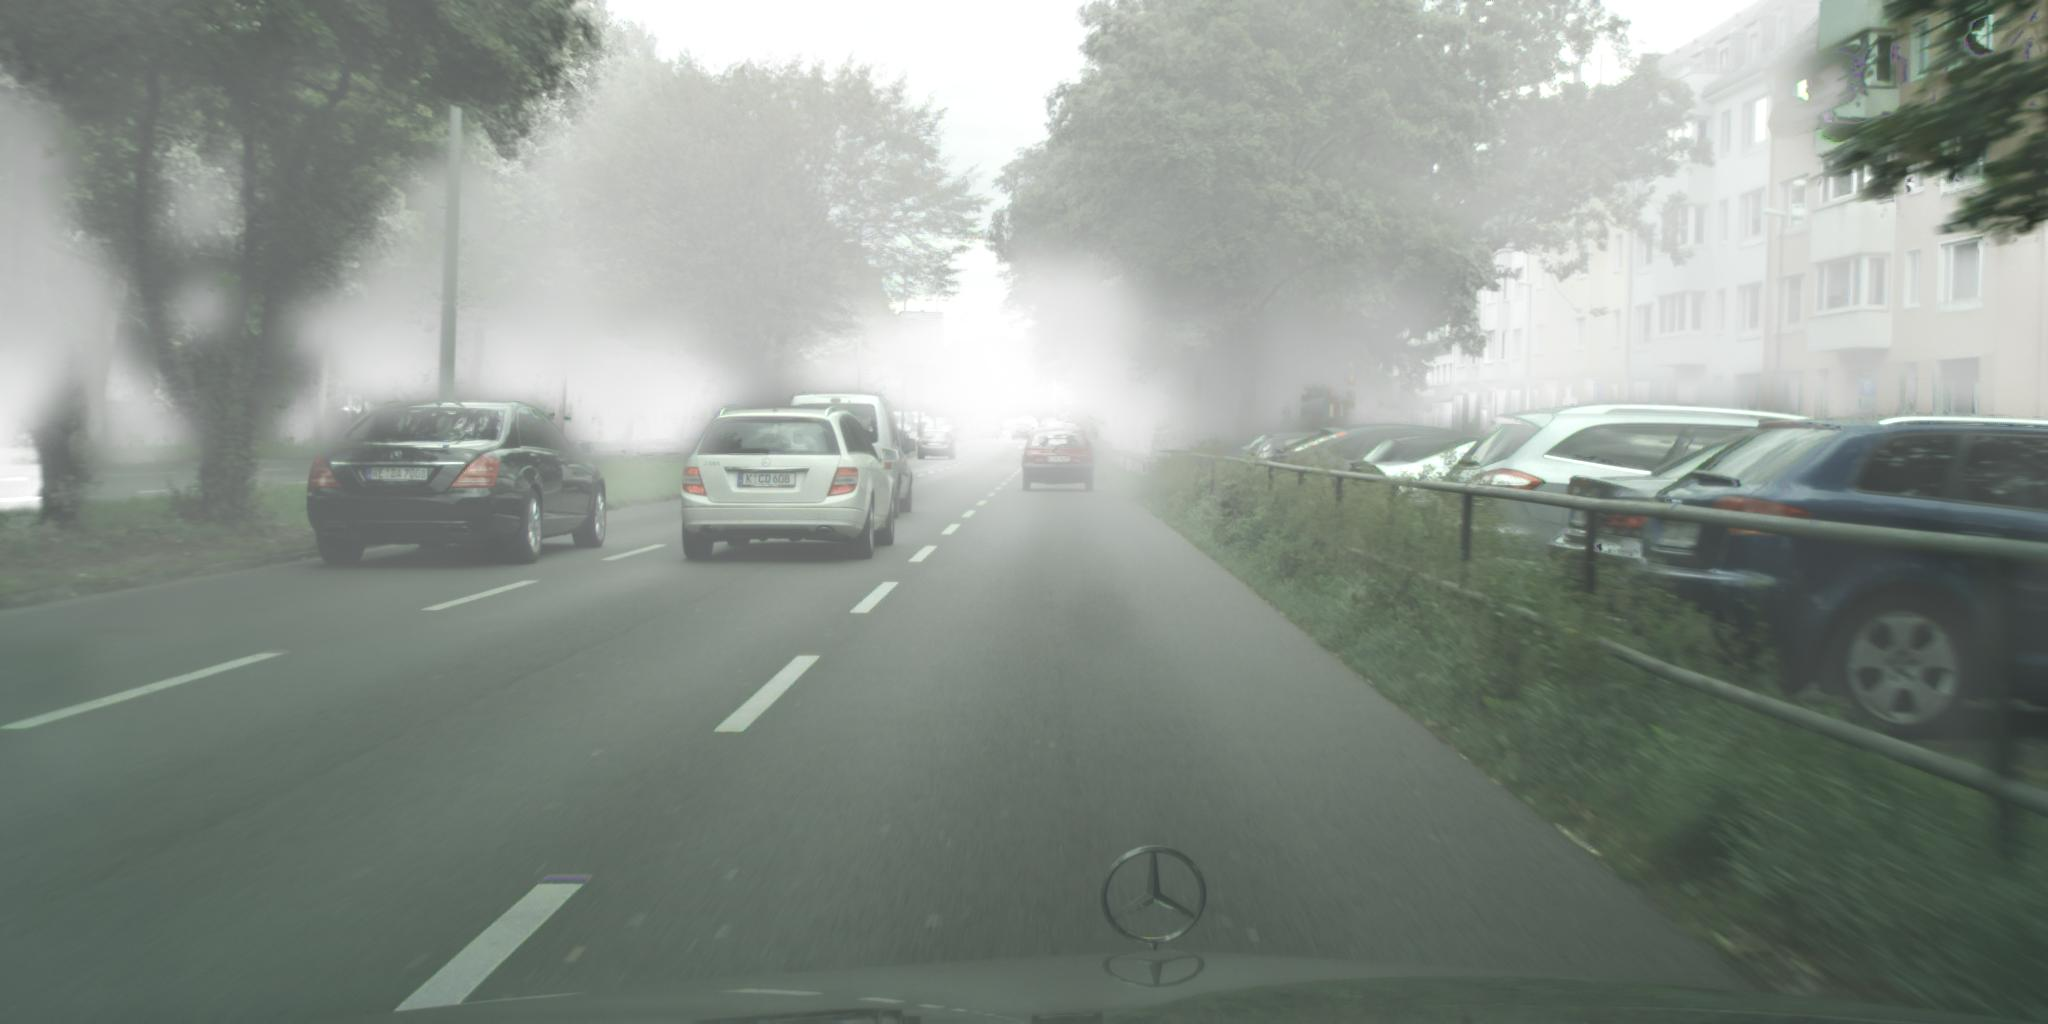car: (1627, 414, 2045, 741), (1441, 404, 1822, 602), (1548, 421, 1826, 607), (306, 398, 609, 566), (680, 405, 903, 562), (788, 394, 921, 515), (1263, 424, 1469, 500), (1364, 432, 1488, 509), (1345, 434, 1492, 481), (1021, 427, 1096, 494), (1232, 431, 1343, 475), (891, 411, 957, 451), (916, 430, 959, 462), (1011, 424, 1034, 441), (980, 424, 1000, 441), (985, 421, 1004, 436), (995, 426, 1004, 440)
